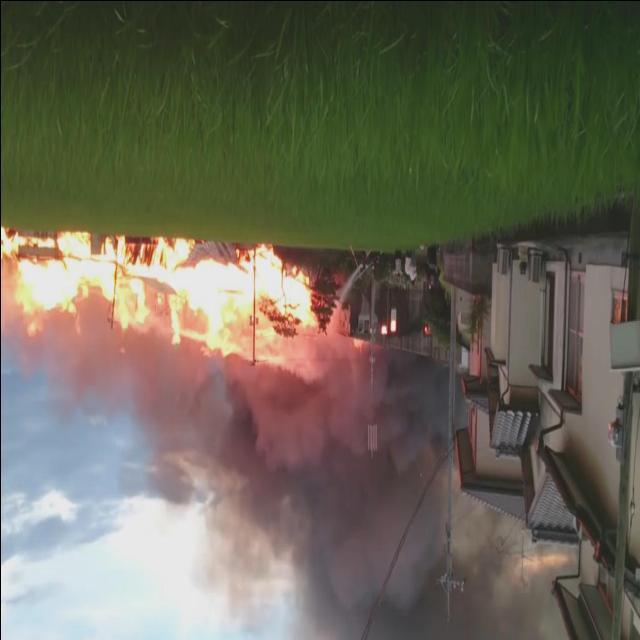Fire: (422, 325, 430, 337)
